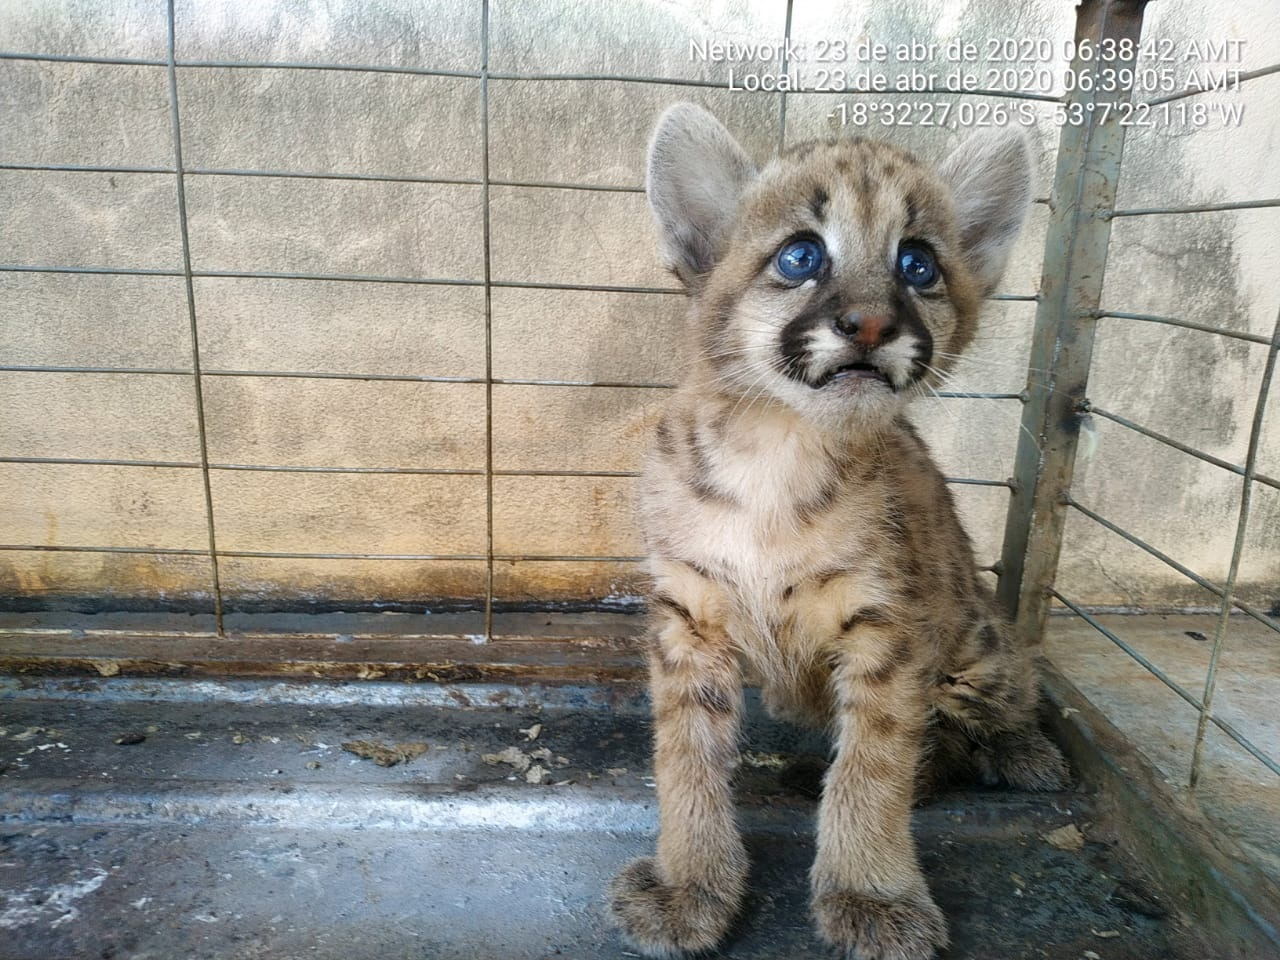OncaParda: (595, 96, 1083, 960)
